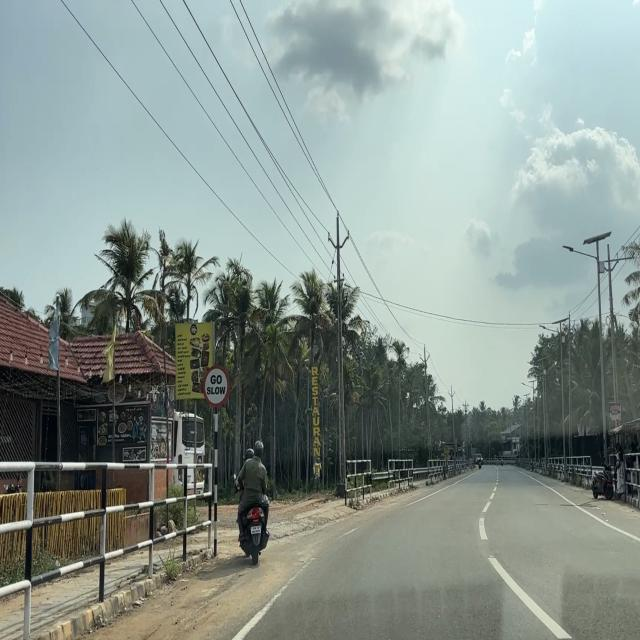GO_SLOW: (202, 362, 231, 409)
